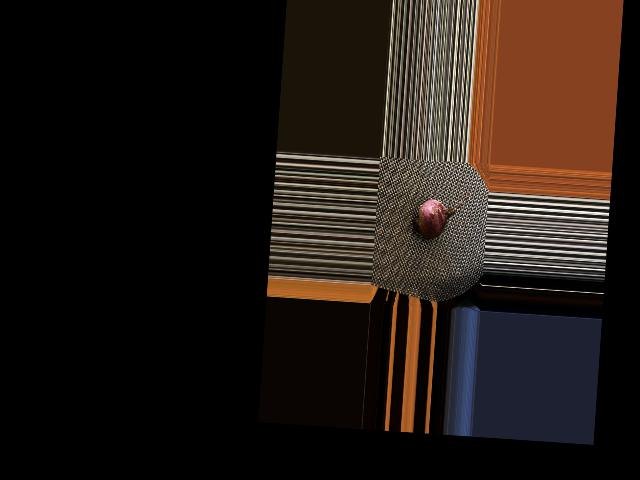beet: (410, 180, 470, 242)
